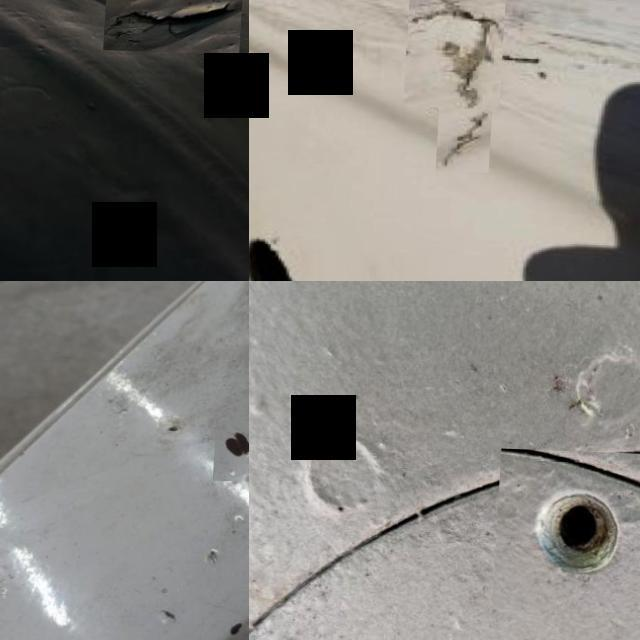Crack: (412, 0, 508, 106), (107, 0, 246, 51), (142, 580, 249, 640), (442, 104, 497, 168), (217, 417, 249, 479), (0, 539, 20, 635), (503, 48, 552, 64)
Missing_Fastener: (496, 446, 640, 610)
